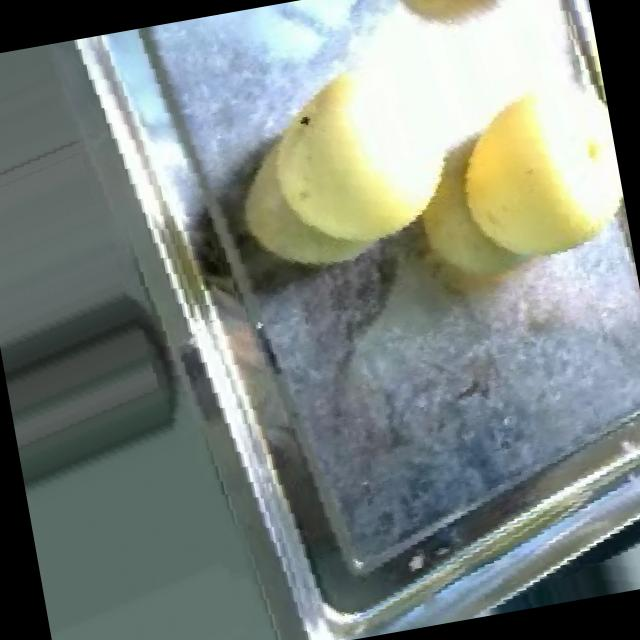Fruit: (199, 39, 454, 306), (428, 60, 634, 298), (0, 287, 204, 498), (355, 0, 579, 42)
